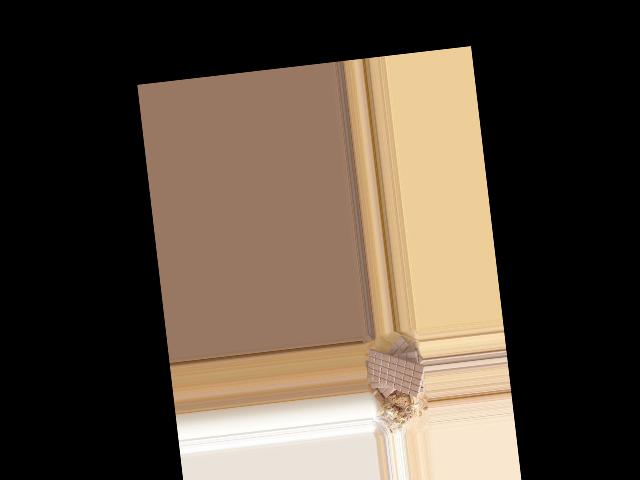chocolate: (366, 342, 427, 405)
